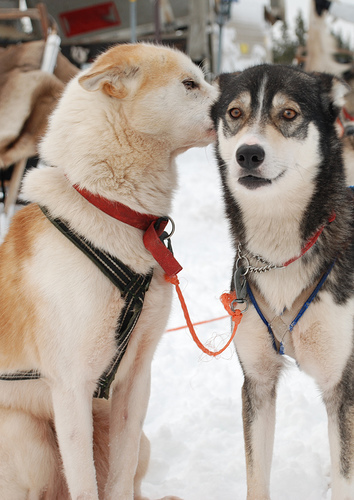dog: (0, 38, 218, 498), (207, 58, 352, 498)
